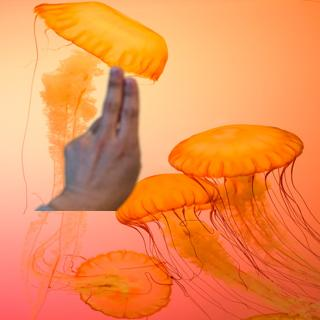DHAVE: (55, 63, 146, 203)
